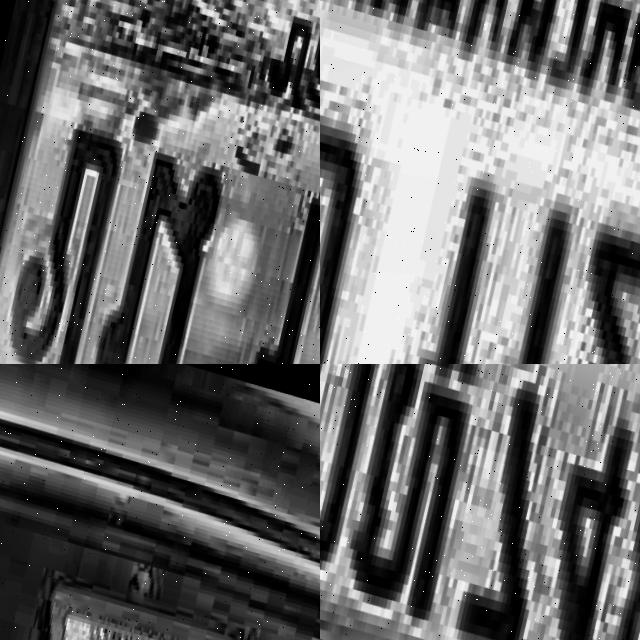license-plate: (0, 0, 320, 364), (320, 0, 640, 364), (320, 364, 640, 640), (0, 531, 297, 640)
